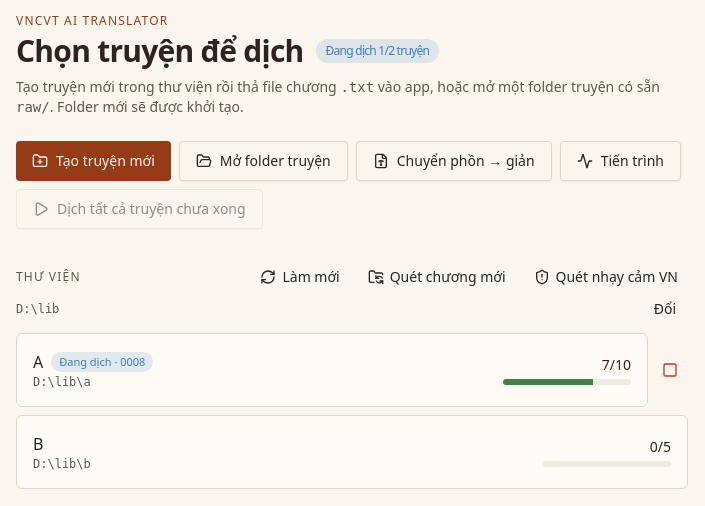
Test: StoryPicker · Thư viện › truyện đang dịch hiện nhãn + tiến độ live + nút Dừng gọi session_stop đúng root
Check: the text "A" is shown, box [33,350,43,374]
Check: the text "Đang dịch 1/2 truyện" is shown, box [316,39,439,63]
Click the button named "Dừng dịch D:\\lib\\a": (670,370) [652,333,688,407]
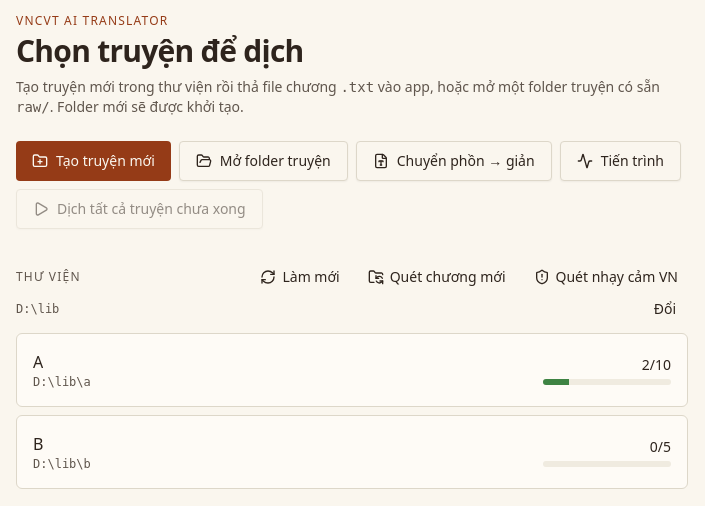
Check: the text "Đang dịch 1/2" is gone
